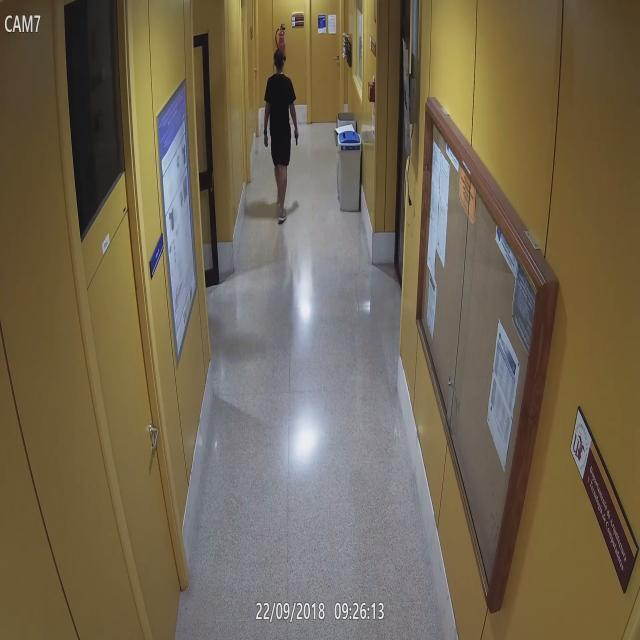pistol: (292, 127, 300, 145)
